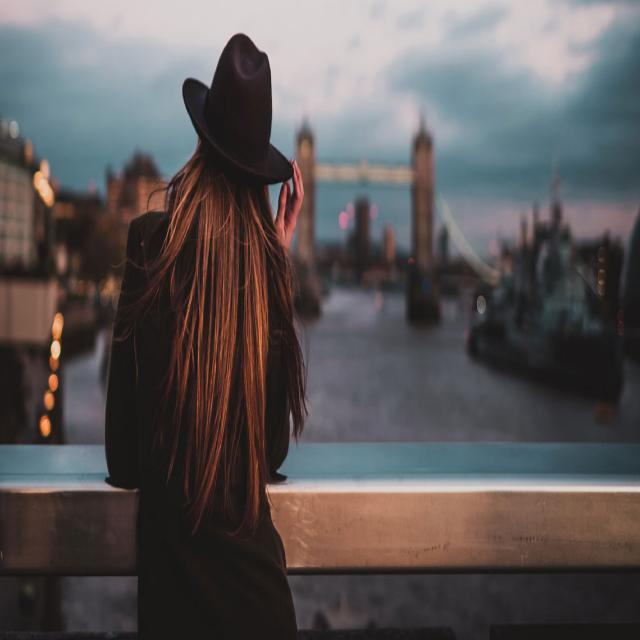hat: (180, 32, 296, 211)
